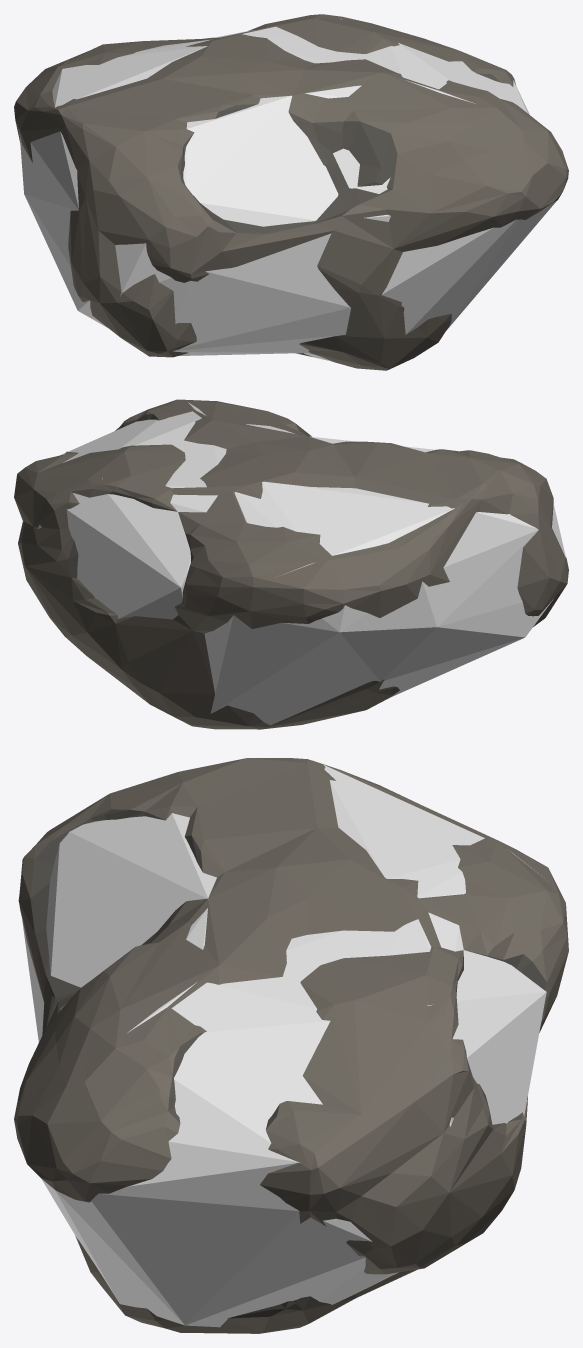
The model's file is SM_Env_Asteroid_Holes_03.fbx.
3 renders of one model, top to bottom at view 1: azimuth 30°, elevation 25°; view 2: azimuth 150°, elevation 25°; view 3: azimuth 270°, elevation 25°, orthographic. The views are drawn at different scales.
Visible parts, largest first — view 1: SM_Env_Asteroid_Holes_03_LOD0, SM_Env_Asteroid_Holes_03_ConvexHulls; view 2: SM_Env_Asteroid_Holes_03_LOD0, SM_Env_Asteroid_Holes_03_ConvexHulls; view 3: SM_Env_Asteroid_Holes_03_LOD0, SM_Env_Asteroid_Holes_03_ConvexHulls.
Part boxes in pixels (bbox=[...]): SM_Env_Asteroid_Holes_03_LOD0: bbox=[14, 14, 568, 370]; SM_Env_Asteroid_Holes_03_ConvexHulls: bbox=[19, 19, 556, 361]; SM_Env_Asteroid_Holes_03_LOD0: bbox=[14, 399, 568, 729]; SM_Env_Asteroid_Holes_03_ConvexHulls: bbox=[37, 402, 566, 725]; SM_Env_Asteroid_Holes_03_LOD0: bbox=[14, 758, 568, 1333]; SM_Env_Asteroid_Holes_03_ConvexHulls: bbox=[21, 765, 546, 1327].
Size of the model in its own units: 765 by 1064 by 609.
1 material, 1 textured.
